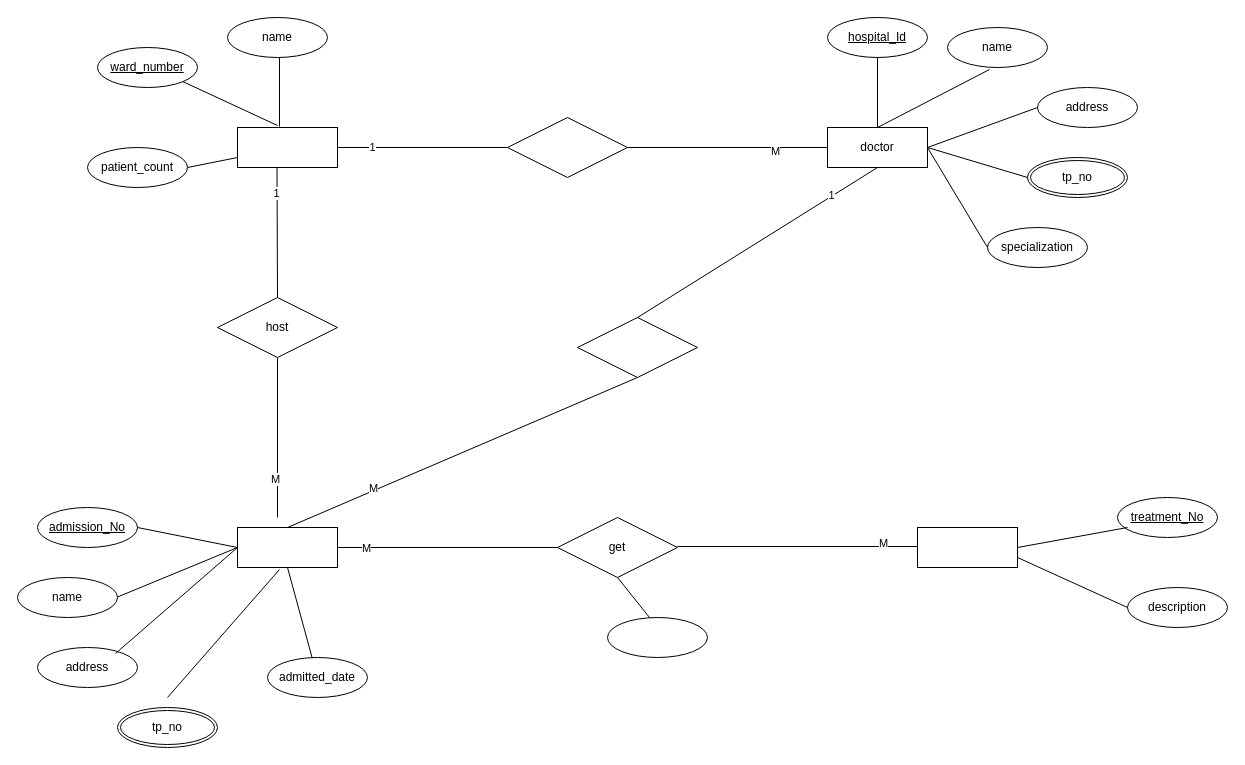
Some shapes in this 1245 by 765 pixel diagram are drawn without their labels. Here are the shapes that lost their labels. From the top down, the centre of each, then its label:
(x=287, y=147): ward
(x=567, y=147): assign
(x=637, y=347): treat
(x=287, y=547): patient
(x=967, y=547): treatment
(x=657, y=637): treat_dos
